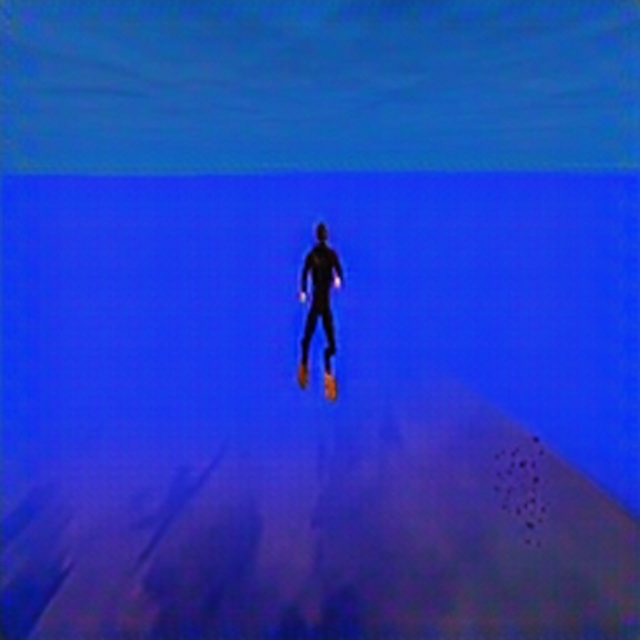diver: (294, 218, 345, 398)
